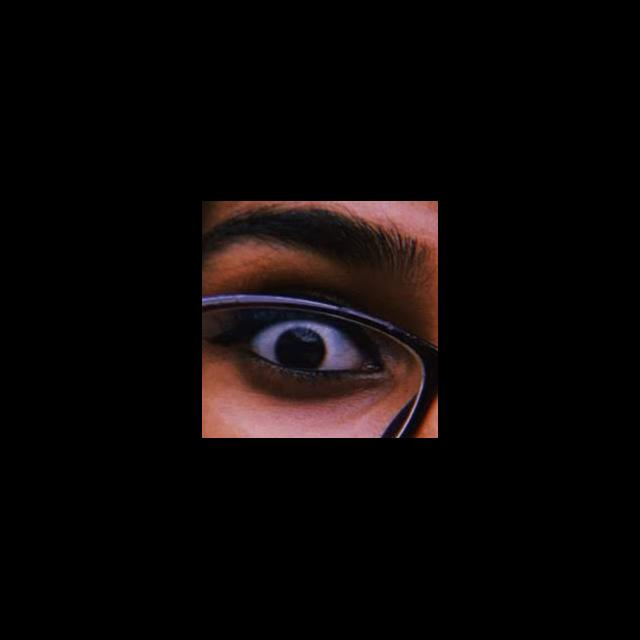eye: (245, 319, 362, 374)
iris: (274, 326, 326, 372)
